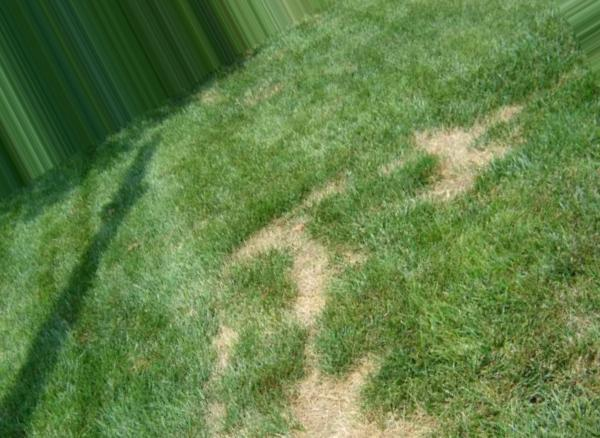patch: (317, 381, 346, 425), (424, 121, 451, 151), (292, 245, 315, 279), (458, 135, 481, 160), (301, 290, 314, 312), (297, 379, 303, 407)
